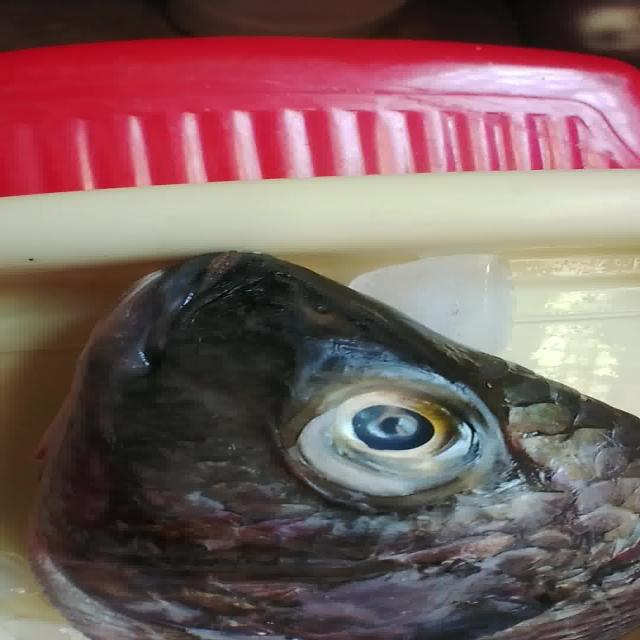Fresh: (301, 382, 534, 498)
